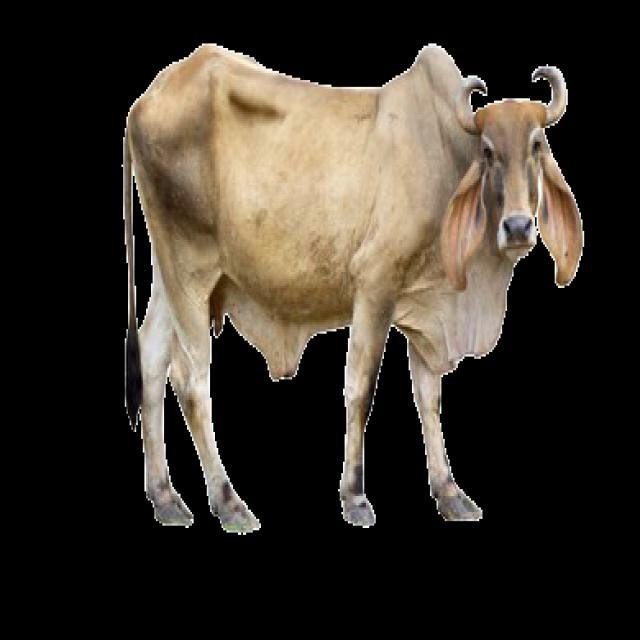cow: (125, 45, 582, 532)
